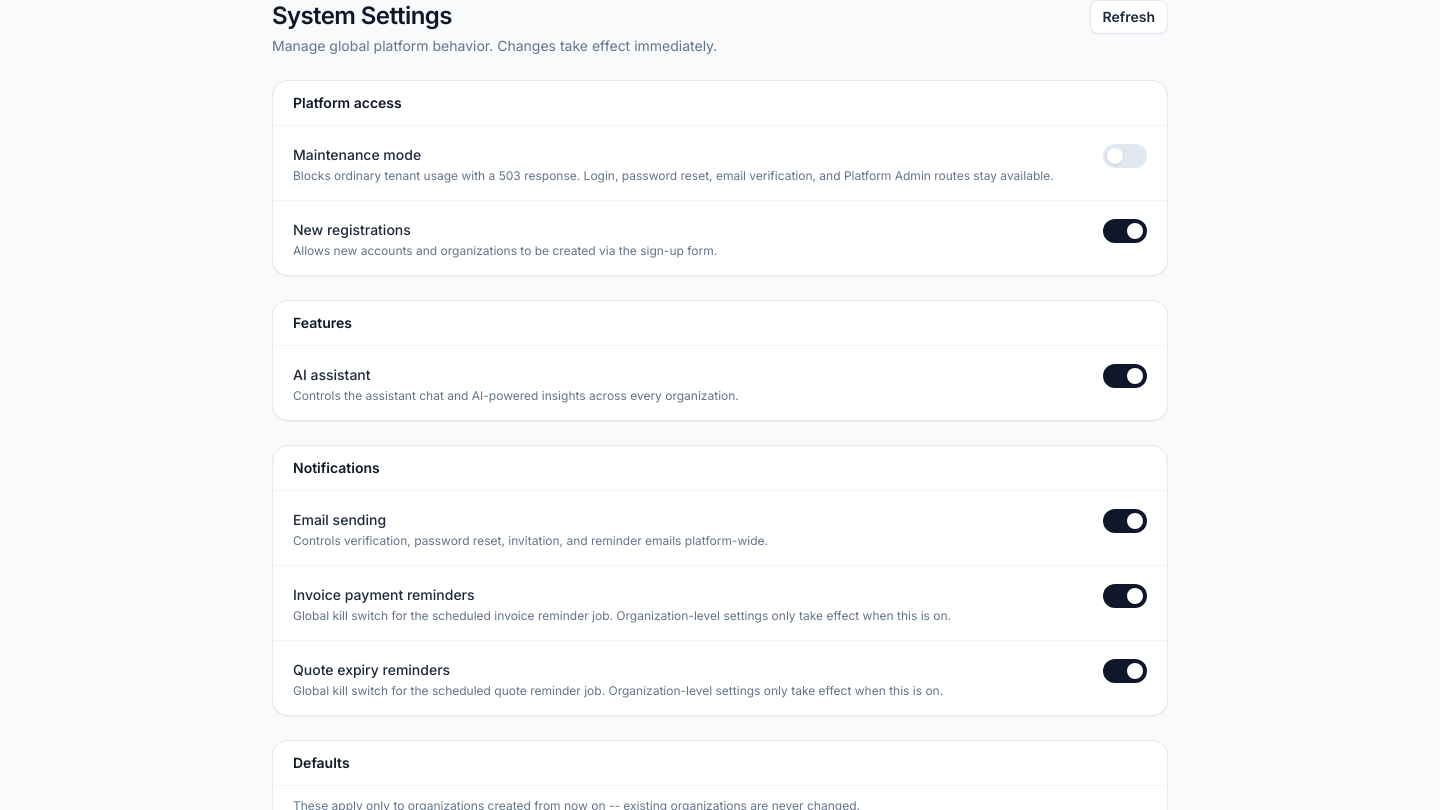
Test: PlatformSettingsPage › shows a controlled error and keeps the dialog open when the save fails
Click the switch named "AI assistant" in the row of "AI assistant".
click(1125, 376)  # box [1103,364,1147,388]
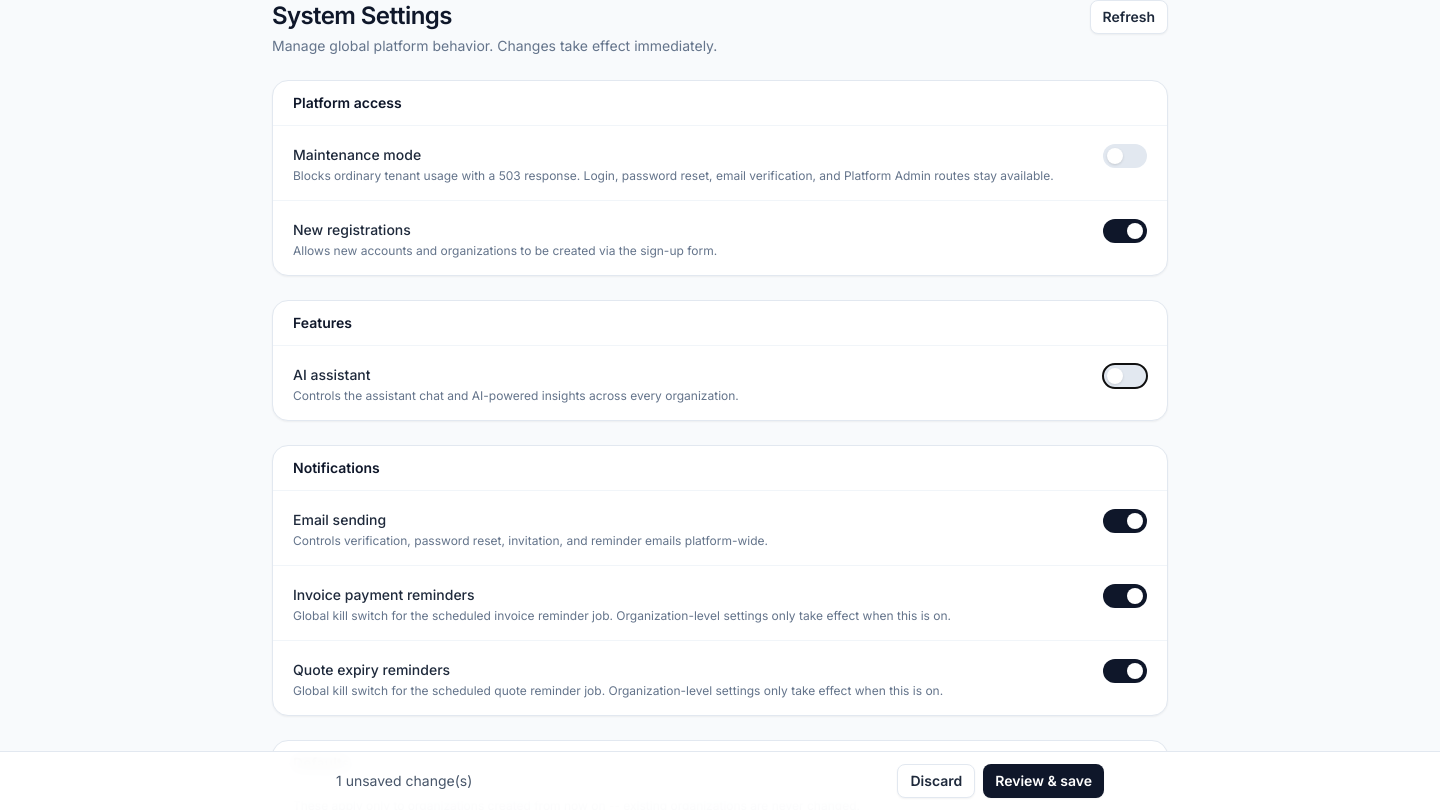
Click the button "Review & save".
click(1044, 781)  # box [983,764,1104,798]
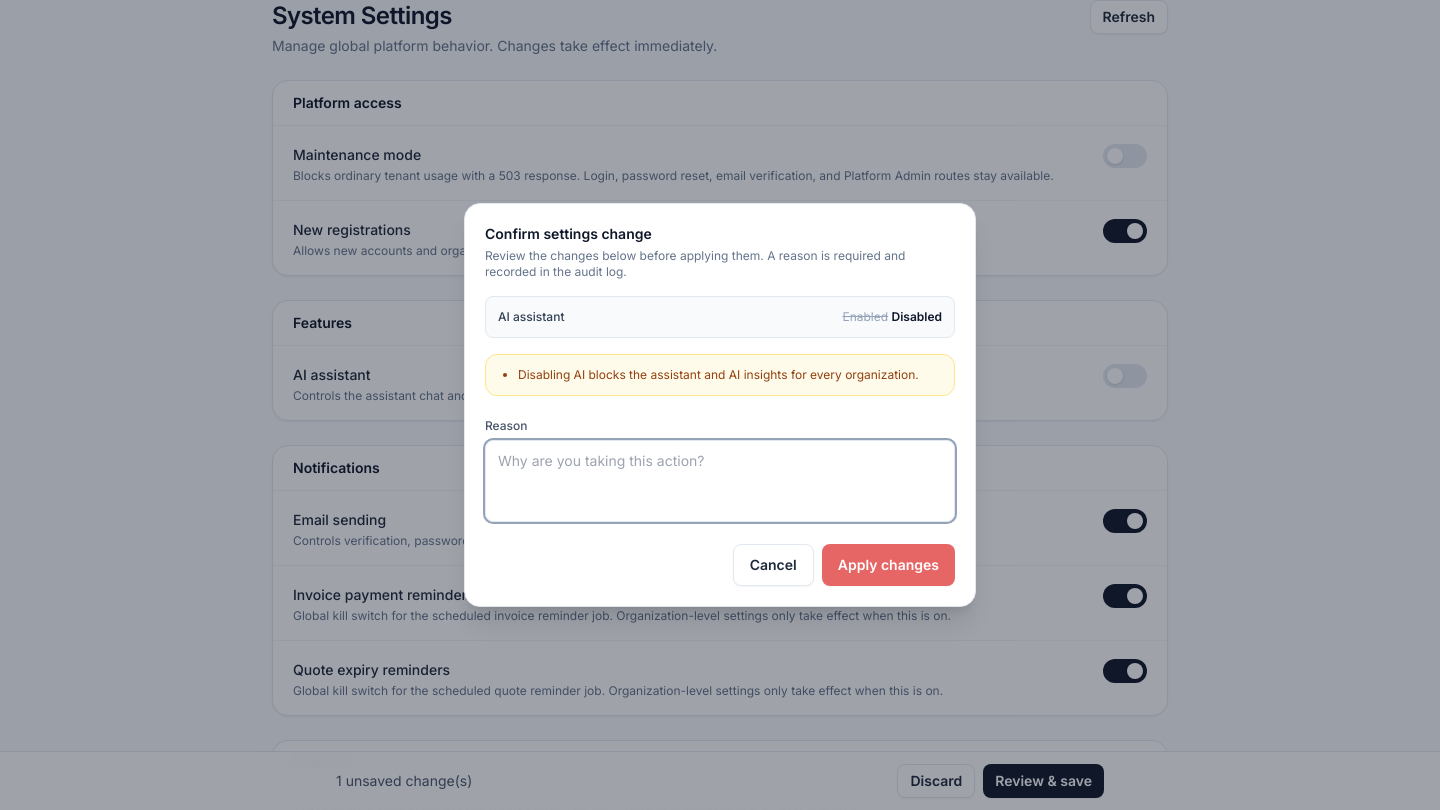
Type "temporary outage" into the text box labelled "Reason".
click(720, 481); type("temporary outage")  # box [485,440,955,522]
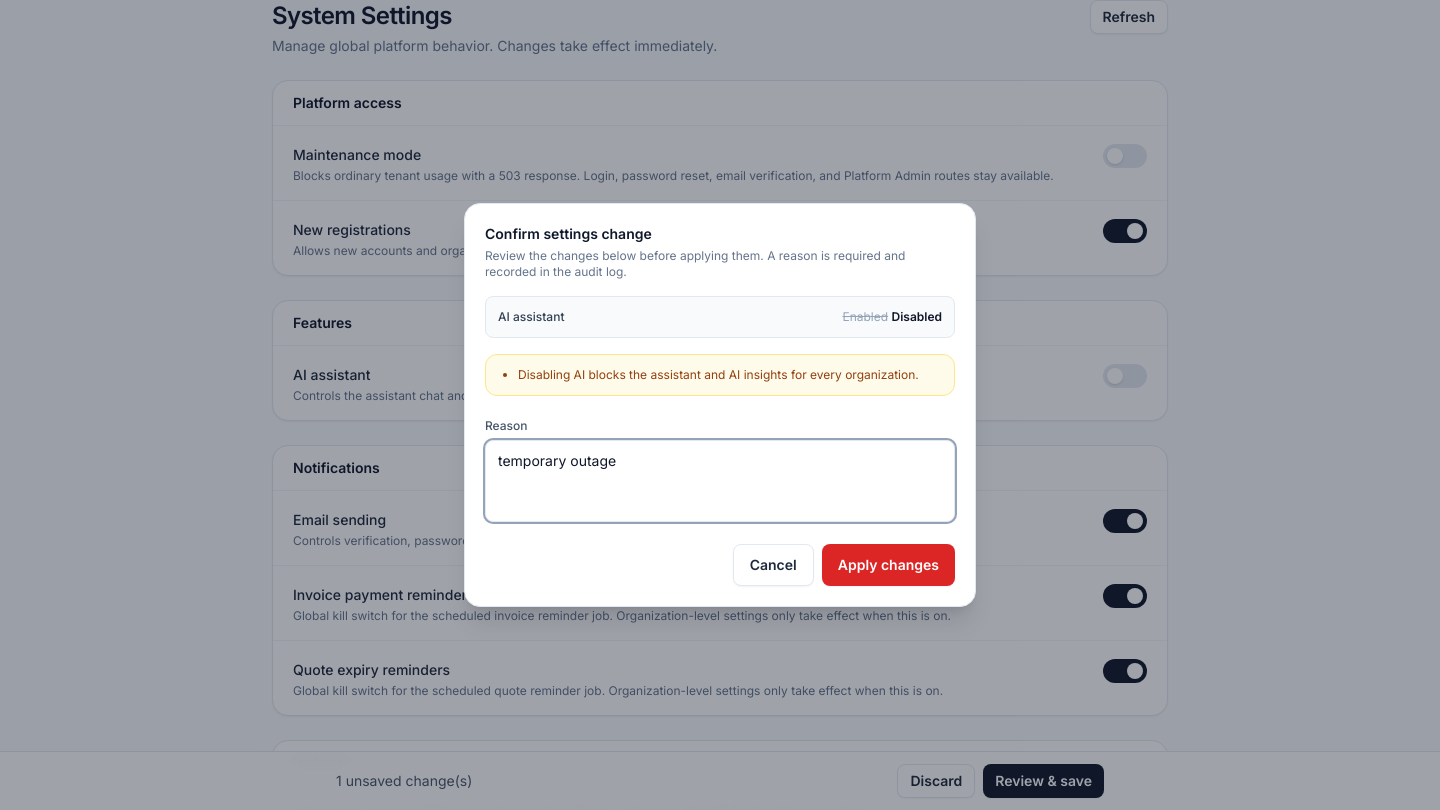
Click the button "Apply changes".
click(888, 565)  # box [822,544,955,586]
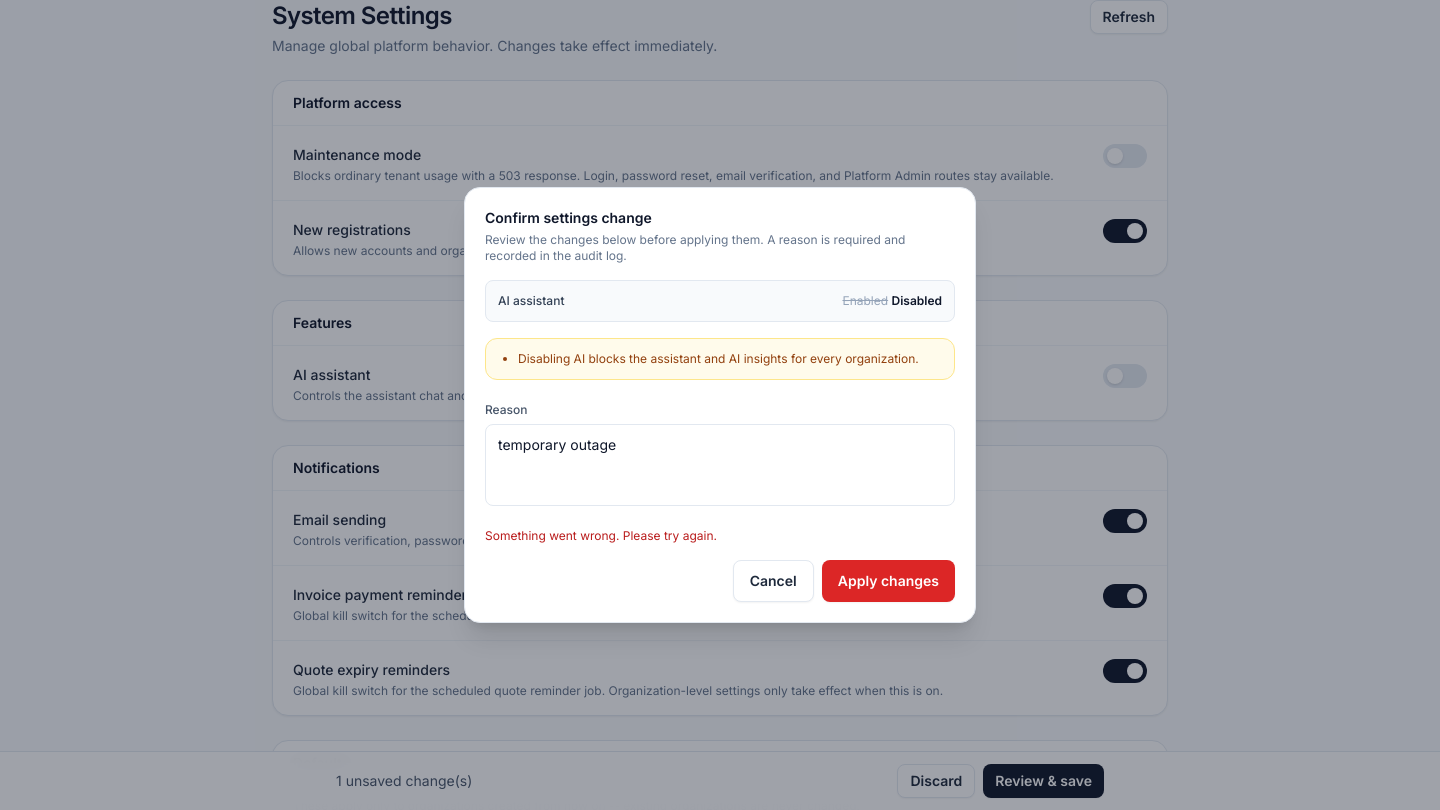
Now the dialog is shown, box [464,187,976,623]
Now the text "1 unsaved change(s)" is shown, box [336,771,472,791]
Now the text "Something went wrong. Please try again." is shown, box [485,528,717,543]
